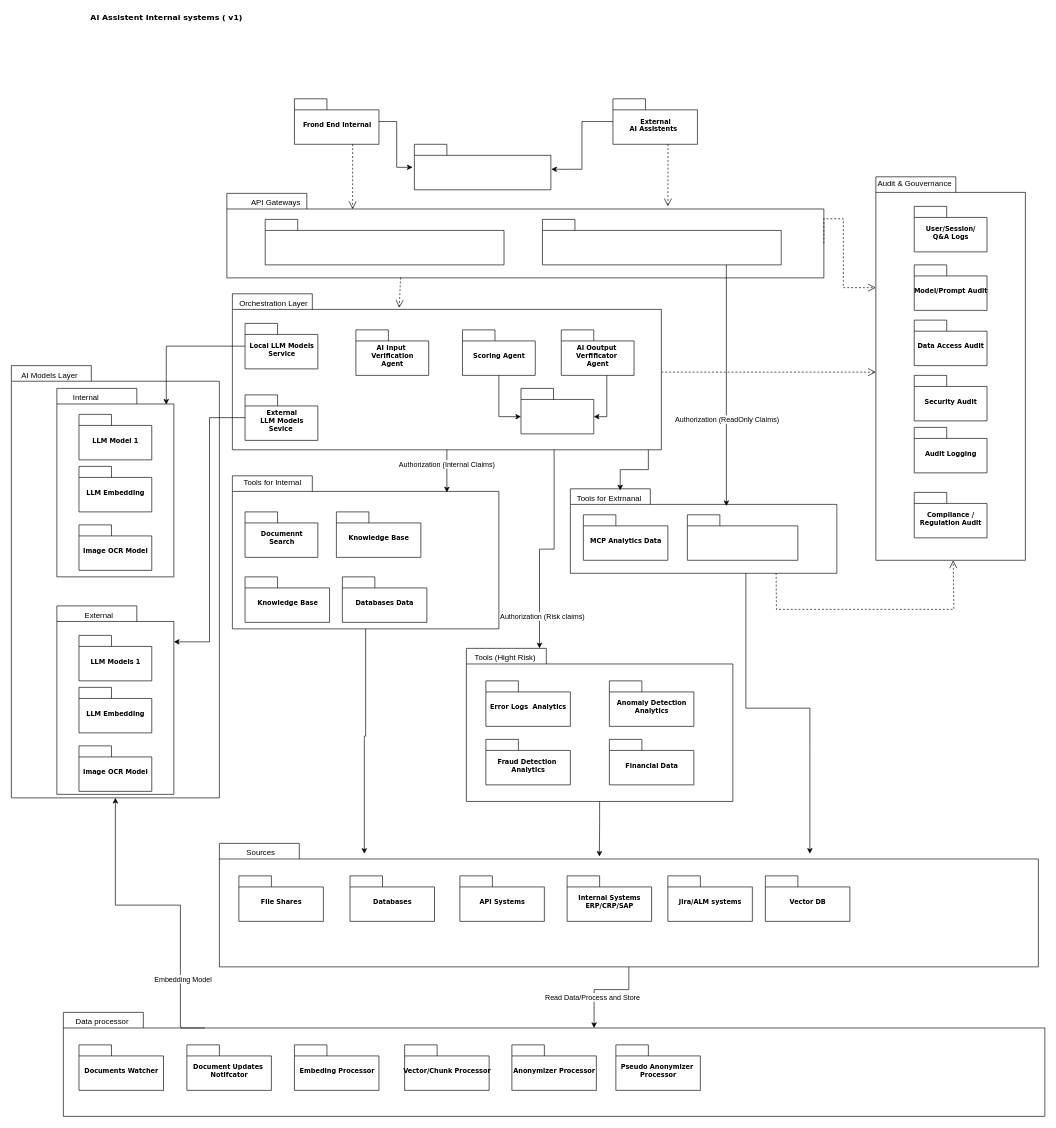
Image size: 1056x1128. Some labels were removed from this diagram. Here are the shapes that lost their labels. From the top down, the centre of each, then its label:
At [482,167]: "Authentication Layer".
At [384,242]: "API Internal".
At [661,242]: "API External".
At [557,411]: "Human in the Loop Agent".
At [742,537]: "MCP Any GDPR compliant data/Documents".
